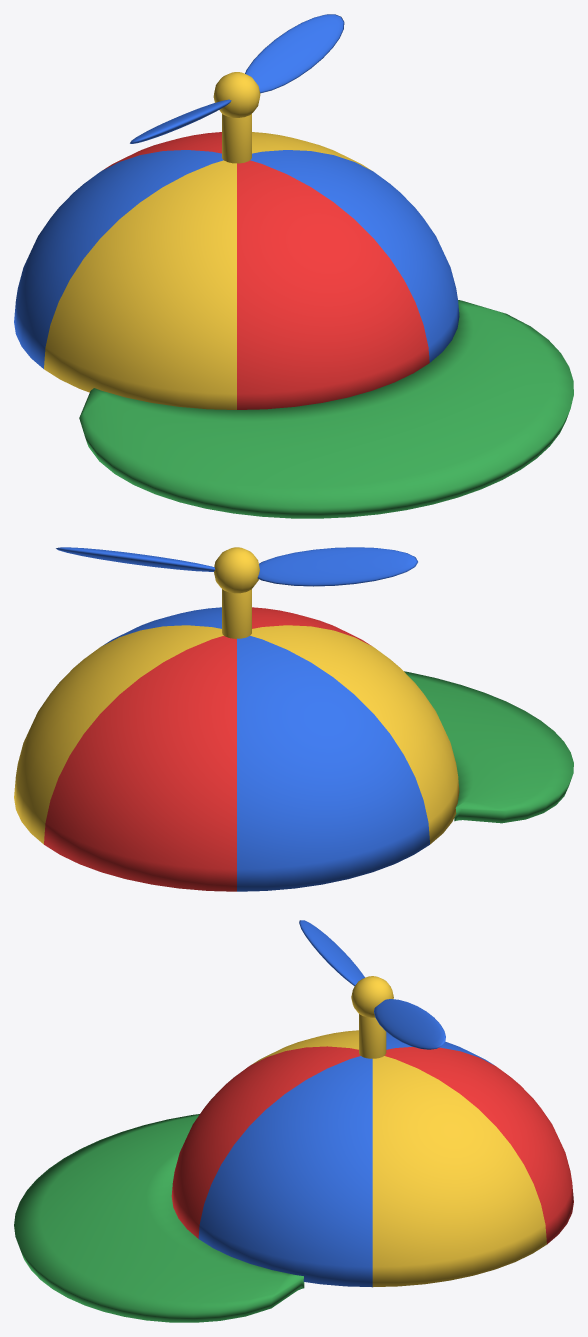
Rendered from PropellerBeanie.glb.
3 renders of one model, top to bottom at view 1: azimuth 30°, elevation 25°; view 2: azimuth 150°, elevation 25°; view 3: azimuth 270°, elevation 25°, orthographic. The views are drawn at different scales.
Parts seen in each view (by area): view 1: PropellerBeanie; view 2: PropellerBeanie; view 3: PropellerBeanie.
Part boxes in pixels (x1,y1,x2,y2): PropellerBeanie: (14,14,573,518); PropellerBeanie: (14,547,573,891); PropellerBeanie: (14,920,573,1322).
Bounding box in the file's own units: 1.55 × 0.9367 × 1.83.
